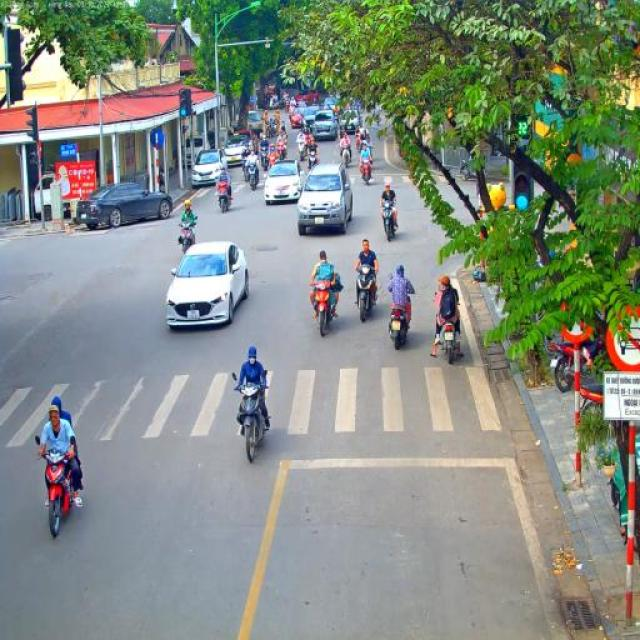car: (165, 242, 250, 332), (75, 181, 174, 231), (296, 162, 354, 236), (264, 160, 305, 206), (191, 149, 229, 189), (222, 133, 252, 165), (312, 110, 338, 142), (338, 108, 361, 136), (300, 105, 321, 131), (296, 89, 320, 109), (289, 105, 306, 129), (323, 97, 341, 114)
motorcycle: (34, 434, 77, 538), (231, 369, 270, 462), (542, 331, 580, 392), (568, 376, 604, 422), (310, 279, 336, 336), (388, 290, 412, 350), (357, 262, 378, 322), (438, 320, 459, 364), (177, 215, 198, 256), (454, 151, 481, 181), (379, 198, 396, 242), (215, 182, 233, 213), (358, 158, 374, 186), (246, 162, 260, 190), (266, 146, 279, 174), (306, 152, 320, 172), (260, 146, 270, 173), (240, 157, 250, 182), (341, 146, 352, 168), (277, 142, 288, 162), (362, 140, 373, 160), (296, 140, 306, 160), (278, 129, 288, 145), (353, 135, 362, 151), (284, 101, 290, 113)
truck: (30, 156, 80, 223), (247, 111, 264, 140)
